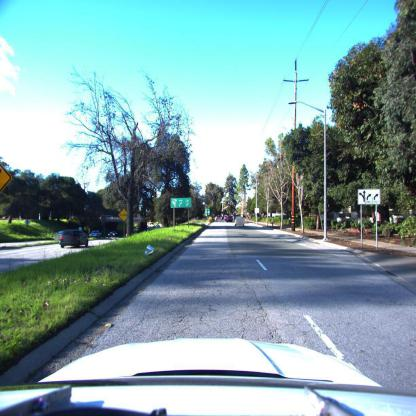car: (0, 336, 416, 416), (59, 230, 89, 250), (232, 213, 247, 228), (88, 232, 101, 240)
sign: (356, 187, 381, 206), (170, 198, 193, 209)
